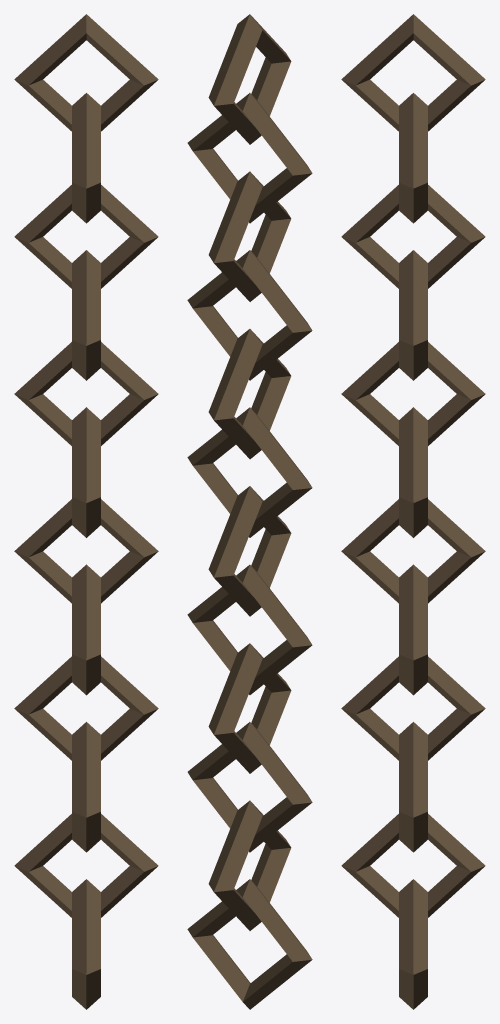
File: Chain_1_Brown.fbx
3 views of the same model, side by side, from view 1: azimuth 90°, elevation 25°; view 2: azimuth 150°, elevation 25°; view 3: azimuth 270°, elevation 25° (orthographic).
Visible parts, largest first — view 1: Chain_1_Brown; view 2: Chain_1_Brown; view 3: Chain_1_Brown.
Part boxes in pixels (bbox=[...]): Chain_1_Brown: bbox=[14, 14, 158, 1009]; Chain_1_Brown: bbox=[187, 14, 312, 1009]; Chain_1_Brown: bbox=[341, 14, 485, 1009].
Size of the model in its own units: 15 by 114 by 15.
